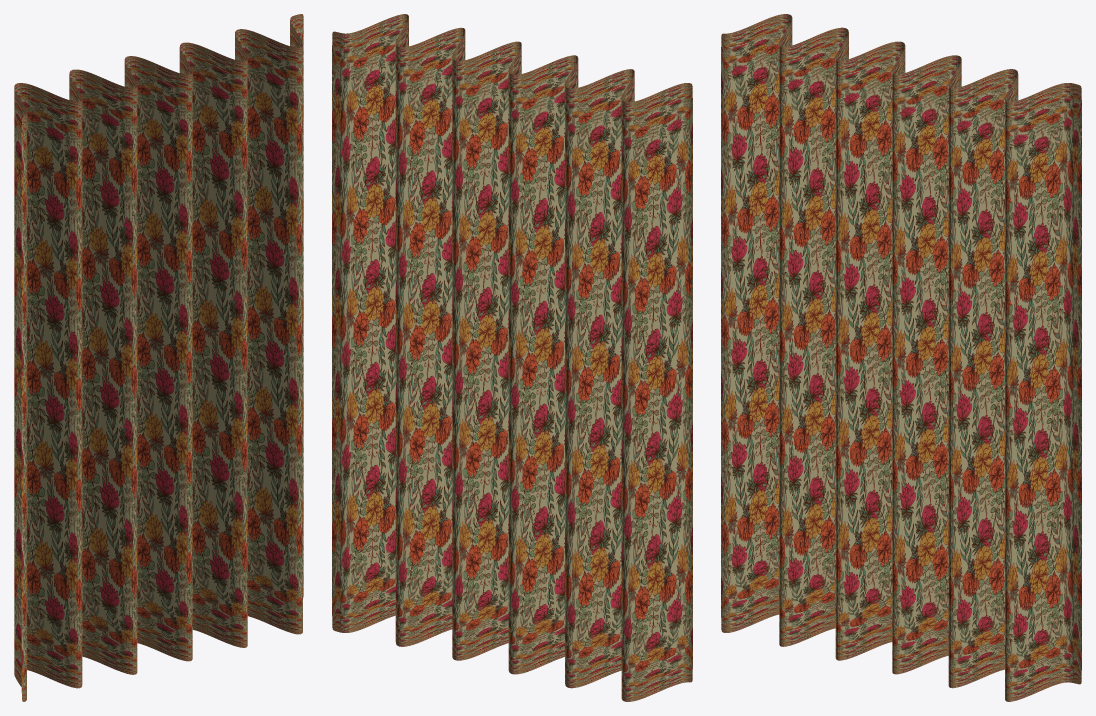
Rendered from curtain.fbx.
The picture shows the model from 3 angles, left to right: view 1: azimuth 30°, elevation 25°; view 2: azimuth 150°, elevation 25°; view 3: azimuth 330°, elevation 25°; orthographic projection. The views are drawn at different scales.
Parts seen in each view (by area): view 1: Curtain; view 2: Curtain; view 3: Curtain.
Boxes of the visible parts, x1,y1,x2,y2 form: Curtain: (14,14,303,701); Curtain: (332,14,692,701); Curtain: (721,14,1081,701).
Bounding box in the file's own units: 135 × 239 × 26.1.
